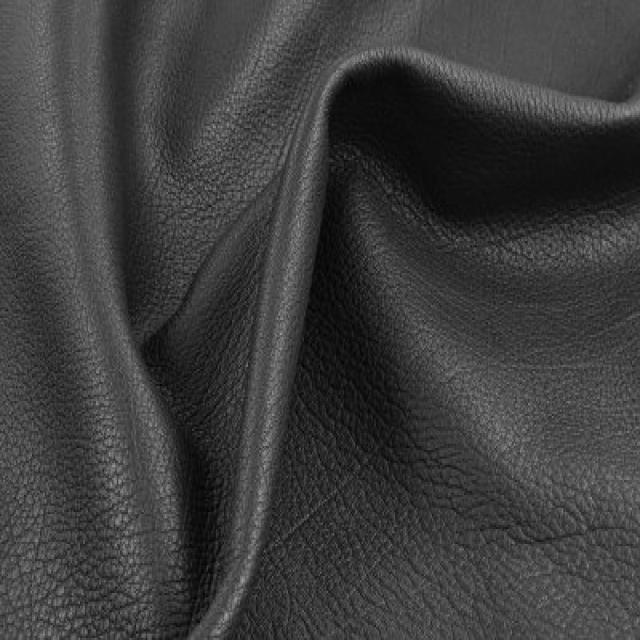Crease: (356, 345, 572, 496), (44, 133, 175, 306)
